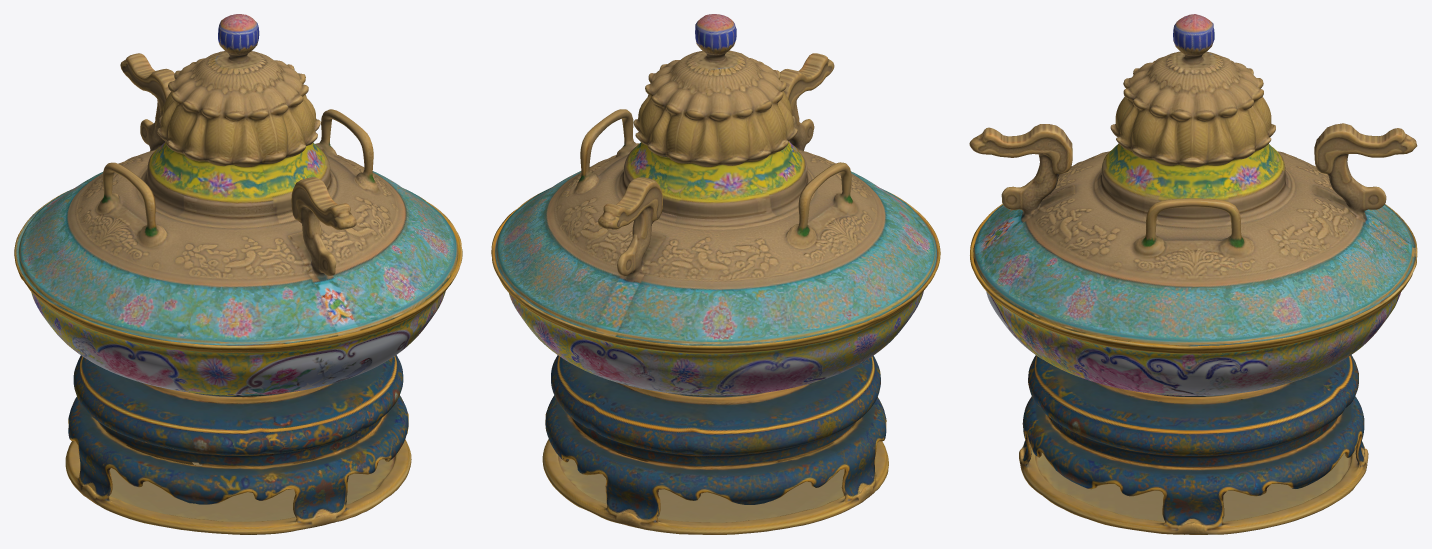
File: 乾隆款画珐琅开光山水花鸟图盖碗.glb
3 views of the same model, side by side, from view 1: azimuth 30°, elevation 25°; view 2: azimuth 150°, elevation 25°; view 3: azimuth 270°, elevation 25° (orthographic).
Parts seen in each view (by area): view 1: tripo_node_c6633253; view 2: tripo_node_c6633253; view 3: tripo_node_c6633253.
Part boxes in pixels (x1,y1,x2,y2): tripo_node_c6633253: (14, 14, 462, 534); tripo_node_c6633253: (491, 14, 940, 534); tripo_node_c6633253: (969, 14, 1417, 534).
Size of the model in its own units: 89.07 by 97.76 by 88.94.
Materials: 1 (1 with a texture image).
